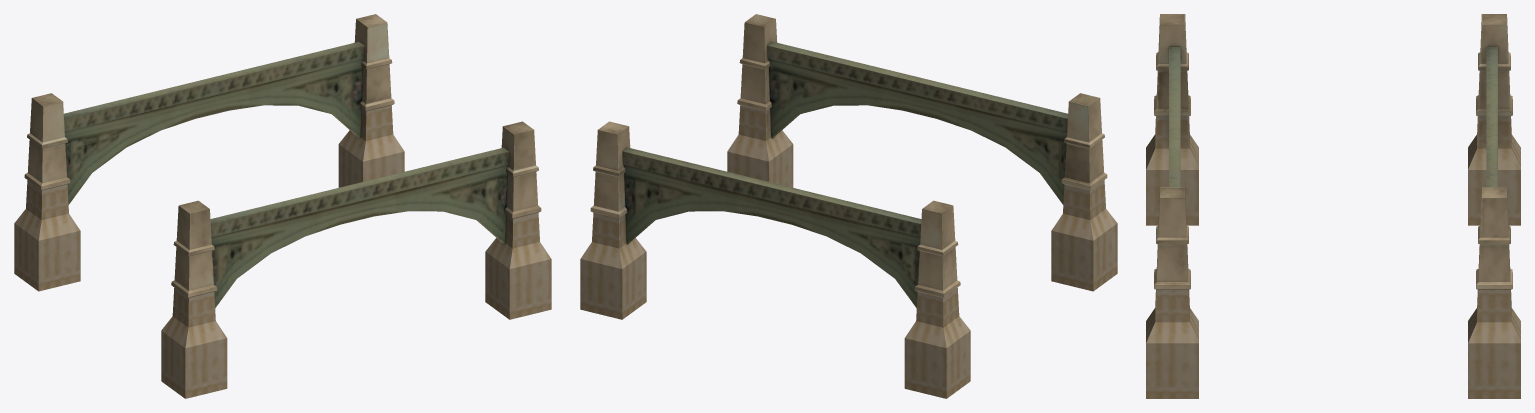
The model's file is bridge.fbx.
The picture shows the model from 3 angles, left to right: view 1: azimuth 30°, elevation 25°; view 2: azimuth 150°, elevation 25°; view 3: azimuth 270°, elevation 25°; orthographic projection. The views are drawn at different scales.
Parts seen in each view (by area): view 1: bridge; view 2: bridge; view 3: bridge.
Part boxes in pixels (x1,y1,x2,y2): bridge: [14, 14, 551, 398]; bridge: [580, 14, 1117, 398]; bridge: [1146, 14, 1520, 398].
Bounding box in the file's own units: 375 × 174 × 304.
Materials: 1 (1 with a texture image).
